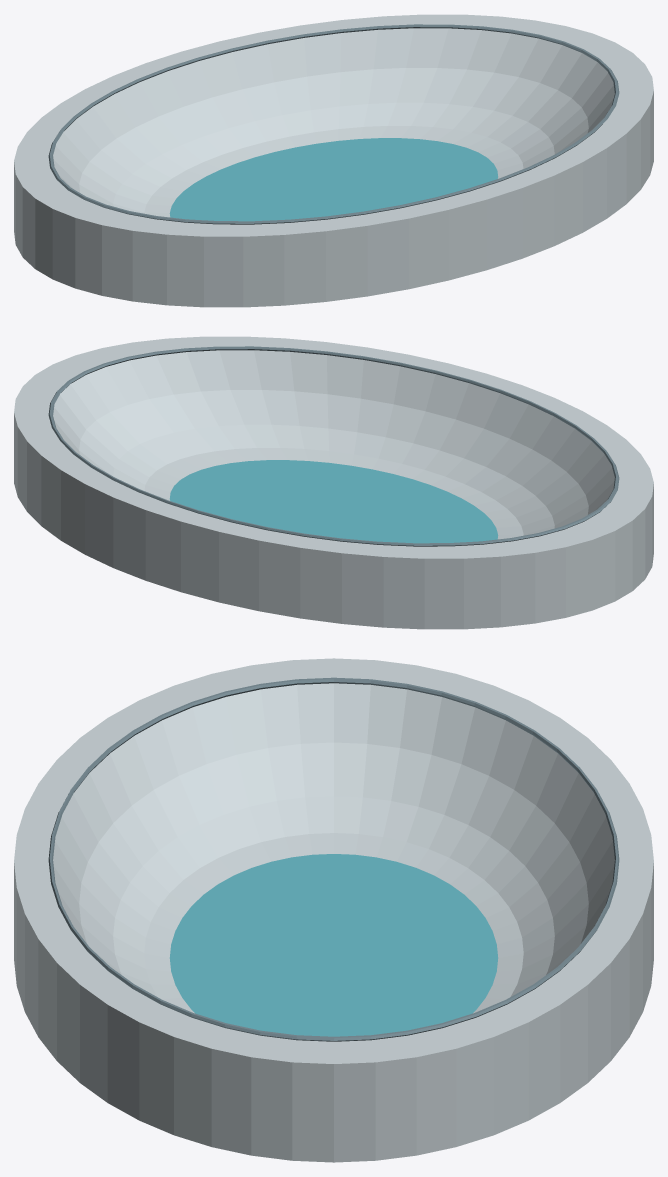
File: custom-bowl.glb
The picture shows the model from 3 angles, top to bottom: view 1: azimuth 30°, elevation 25°; view 2: azimuth 150°, elevation 25°; view 3: azimuth 270°, elevation 25°; orthographic projection. The views are drawn at different scales.
Parts seen in each view (by area): view 1: Bowl; view 2: Bowl; view 3: Bowl.
Part boxes in pixels (x1,y1,x2,y2): Bowl: [14, 14, 653, 307]; Bowl: [14, 336, 653, 629]; Bowl: [14, 658, 653, 1162].
Bounding box in the file's own units: 20.34 × 2.38 × 13.56.
